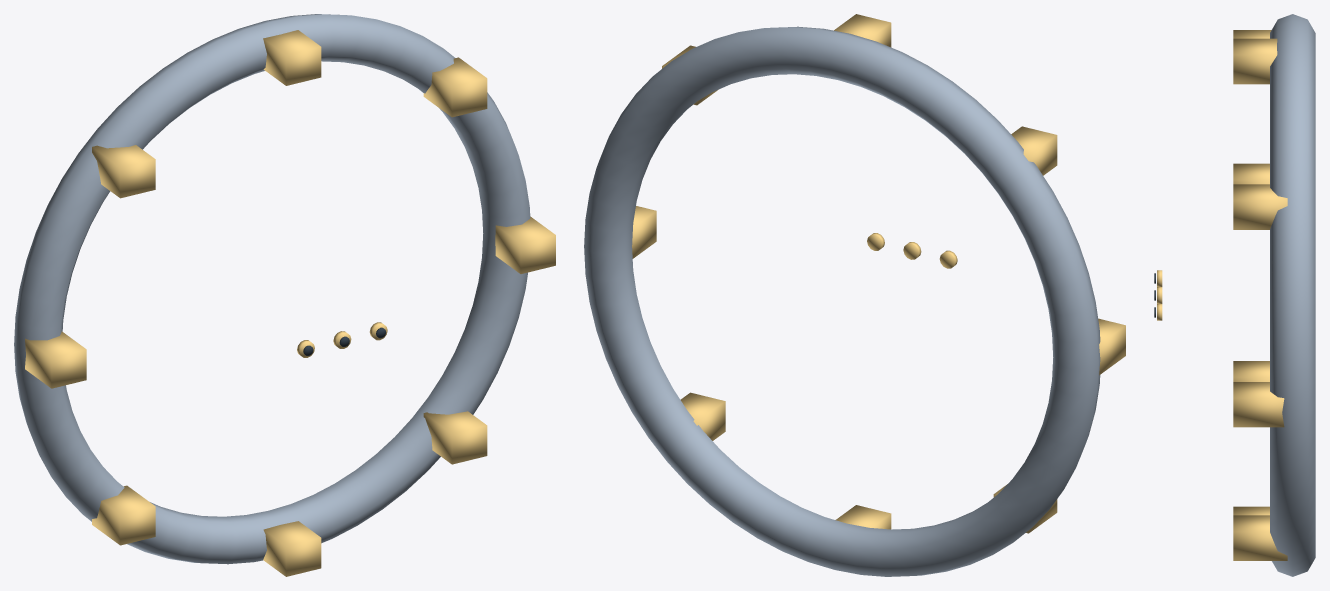
The model's file is 10_L90_SpacecraftDockingReleaseFixture.fbx.
3 views of the same model, side by side, from view 1: azimuth 30°, elevation 25°; view 2: azimuth 150°, elevation 25°; view 3: azimuth 270°, elevation 25° (orthographic). The views are drawn at different scales.
Parts seen in each view (by area): view 1: L90_SpacecraftDockingReleaseF_Part_0000, L90_SpacecraftDockingReleaseF_Part_0001; view 2: L90_SpacecraftDockingReleaseF_Part_0000, L90_SpacecraftDockingReleaseF_Part_0001; view 3: L90_SpacecraftDockingReleaseF_Part_0000, L90_SpacecraftDockingReleaseF_Part_0001.
Boxes of the visible parts, box(x1,y1,x2,y2) form: L90_SpacecraftDockingReleaseF_Part_0000: box(14, 14, 530, 564); L90_SpacecraftDockingReleaseF_Part_0001: box(25, 30, 555, 576); L90_SpacecraftDockingReleaseF_Part_0000: box(584, 26, 1100, 576); L90_SpacecraftDockingReleaseF_Part_0001: box(632, 14, 1125, 533); L90_SpacecraftDockingReleaseF_Part_0000: box(1270, 14, 1315, 576); L90_SpacecraftDockingReleaseF_Part_0001: box(1233, 30, 1287, 560).
Size of the model in its own units: 4.36 by 4.36 by 1.25.
